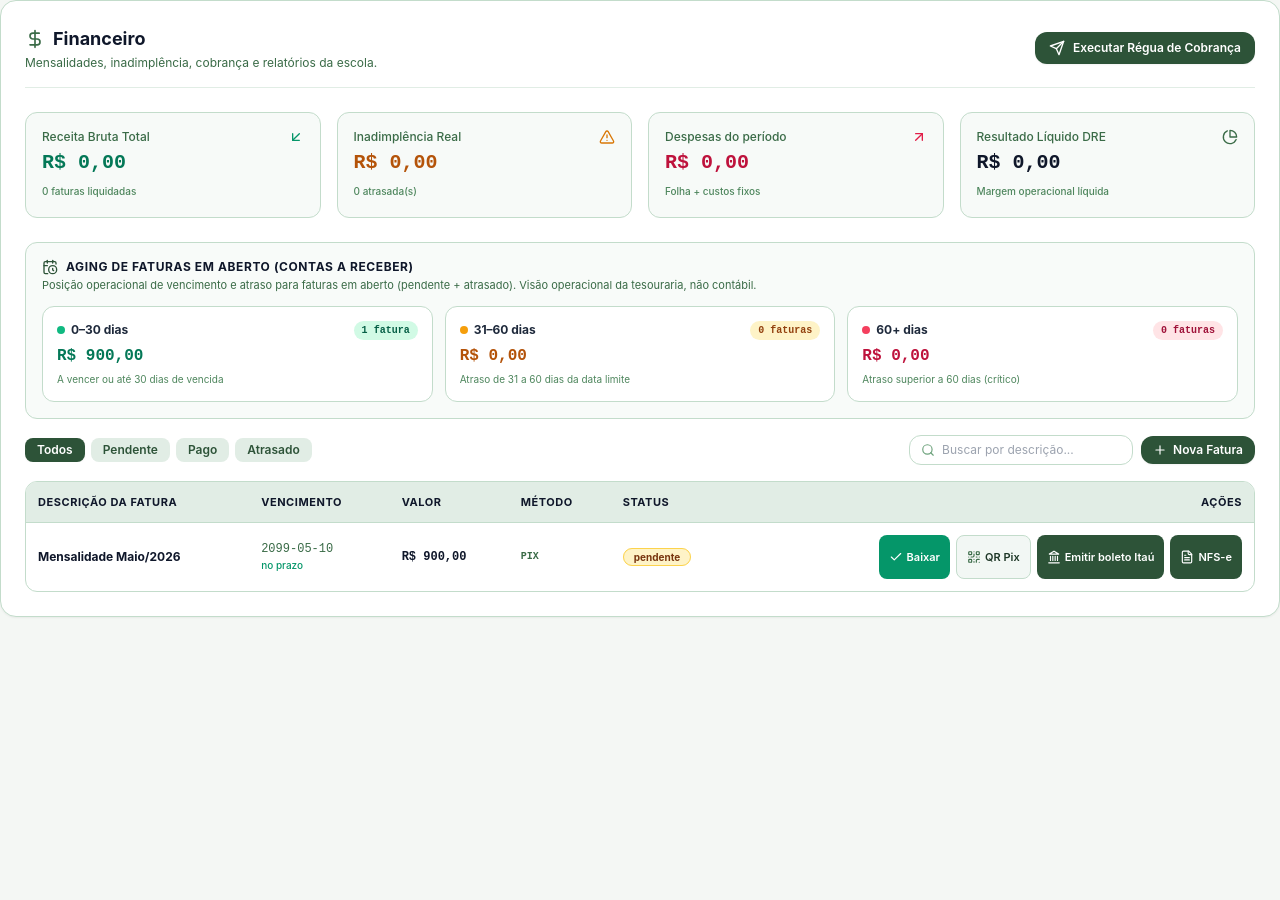
Scenario: FinanceiroSection - Status de Integrações e Emissão Itaú › trata resposta 202 ("emissão em andamento") exibindo aviso apropriado
Expected: the text "Emitir boleto Itaú" is shown, [1065,548,1154,564]
Click the button "Emitir boleto Itaú" at x=1101, y=556, box [1037,534,1164,578]
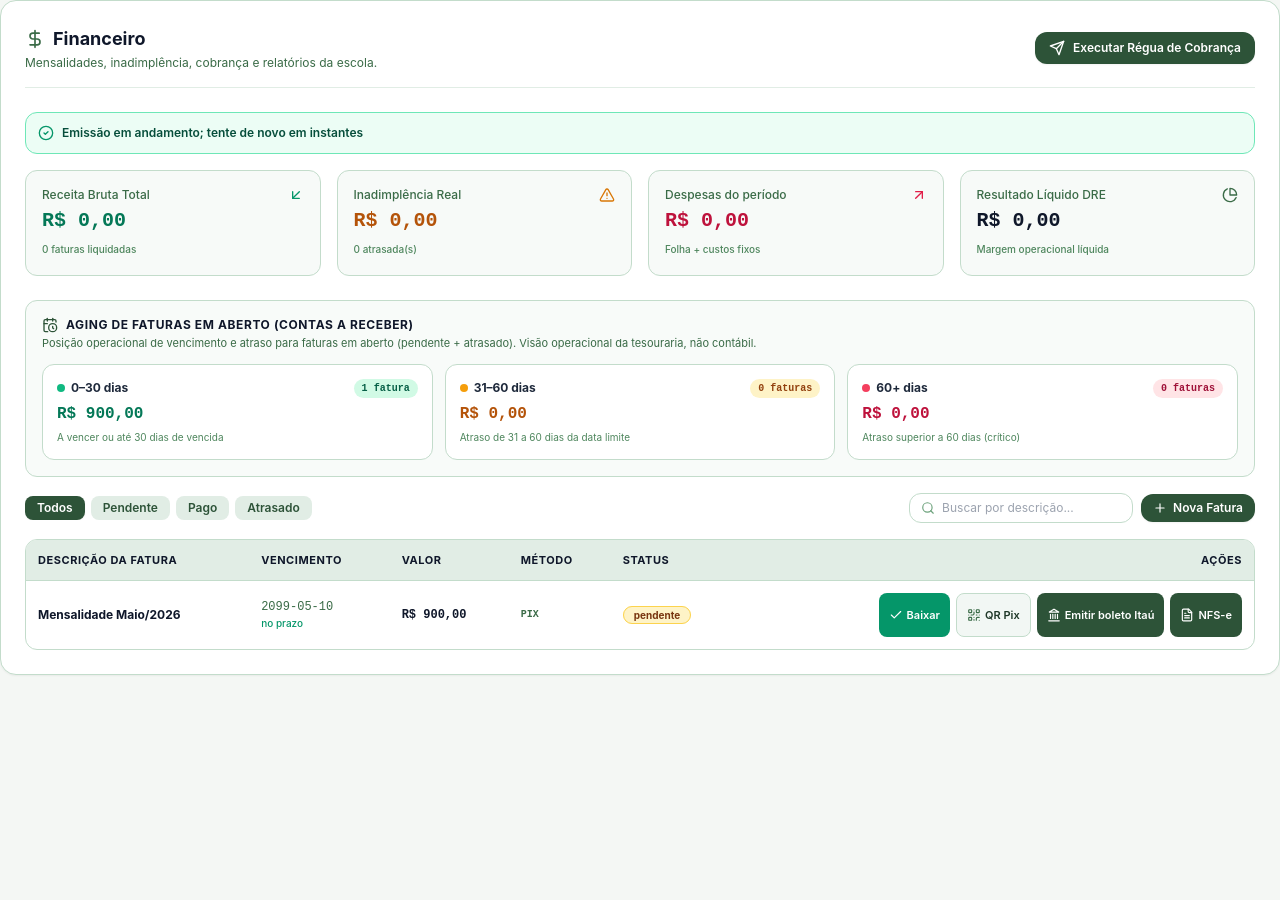
Now the text "Emissão em andamento; tente de novo em instantes" is shown, box [62,125,363,141]
